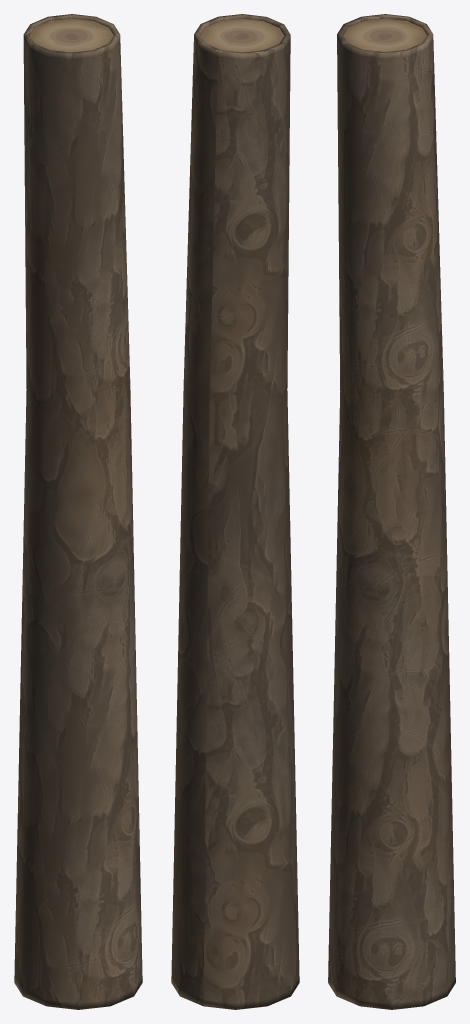
Rendered from tree05_log.fbx.
The picture shows the model from 3 angles, left to right: view 1: azimuth 30°, elevation 25°; view 2: azimuth 150°, elevation 25°; view 3: azimuth 330°, elevation 25°; orthographic projection.
Parts seen in each view (by area): view 1: Cylinder.022; view 2: Cylinder.022; view 3: Cylinder.022.
Part boxes in pixels (box(x1,y1,x2,y2)): Cylinder.022: box(14, 14, 142, 1009); Cylinder.022: box(171, 14, 299, 1009); Cylinder.022: box(328, 14, 455, 1009).
Bounding box in the file's own units: 36.74 × 300 × 36.74.
